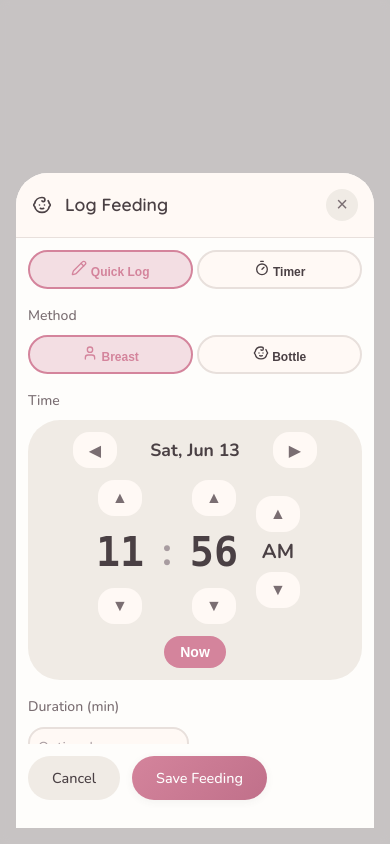
Test: FeedingModal › shows bottle sub-type buttons when Bottle is selected
The width and height of the screenshot is (390, 844).
Click the button "Bottle". click: coordinates (280, 354)
box: [197, 335, 362, 374]
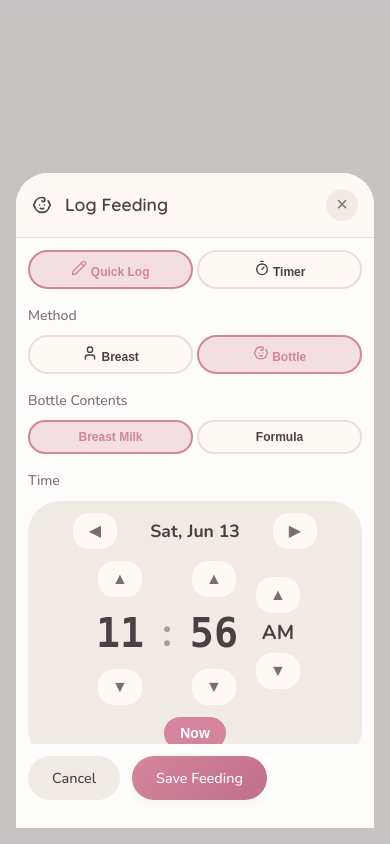
Result: the button "Breast Milk" is shown at [28, 420, 193, 454]
Result: the button "Formula" is shown at [197, 420, 362, 454]
